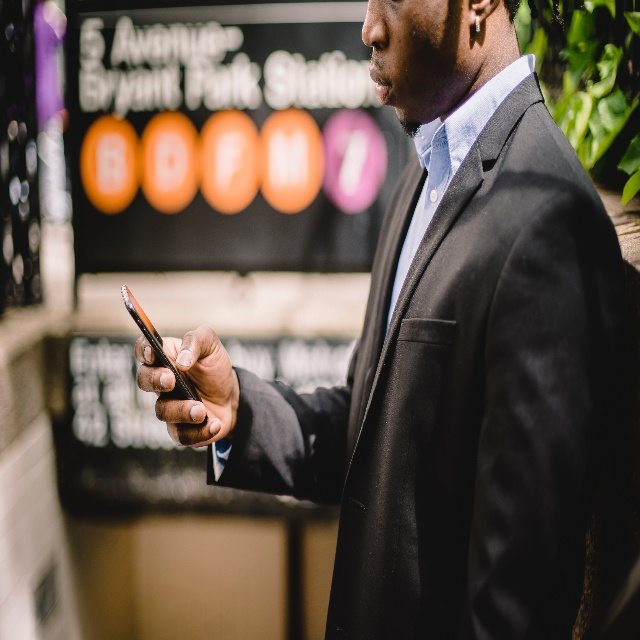Sin_guantes: (133, 324, 235, 445)
